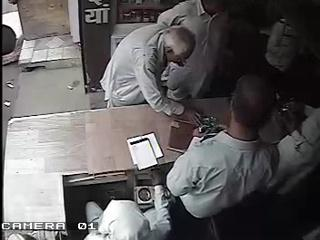Normal: (165, 74, 287, 240), (100, 24, 202, 126), (160, 0, 247, 102)
